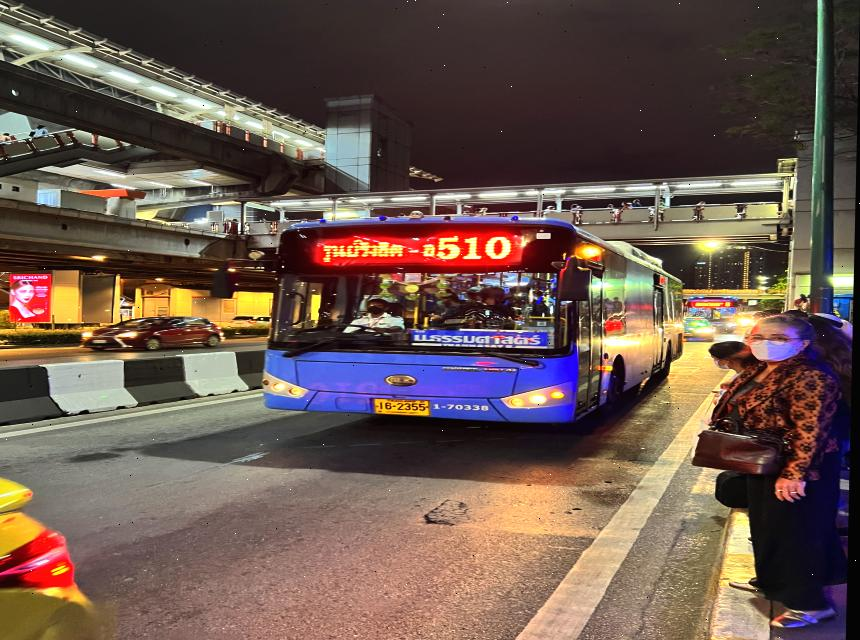BMTA-bus: (259, 216, 688, 427)
Bus Line Number: (436, 235, 515, 263)
Bus Side Number: (433, 395, 493, 416)
Destination Sign: (410, 328, 559, 352)
